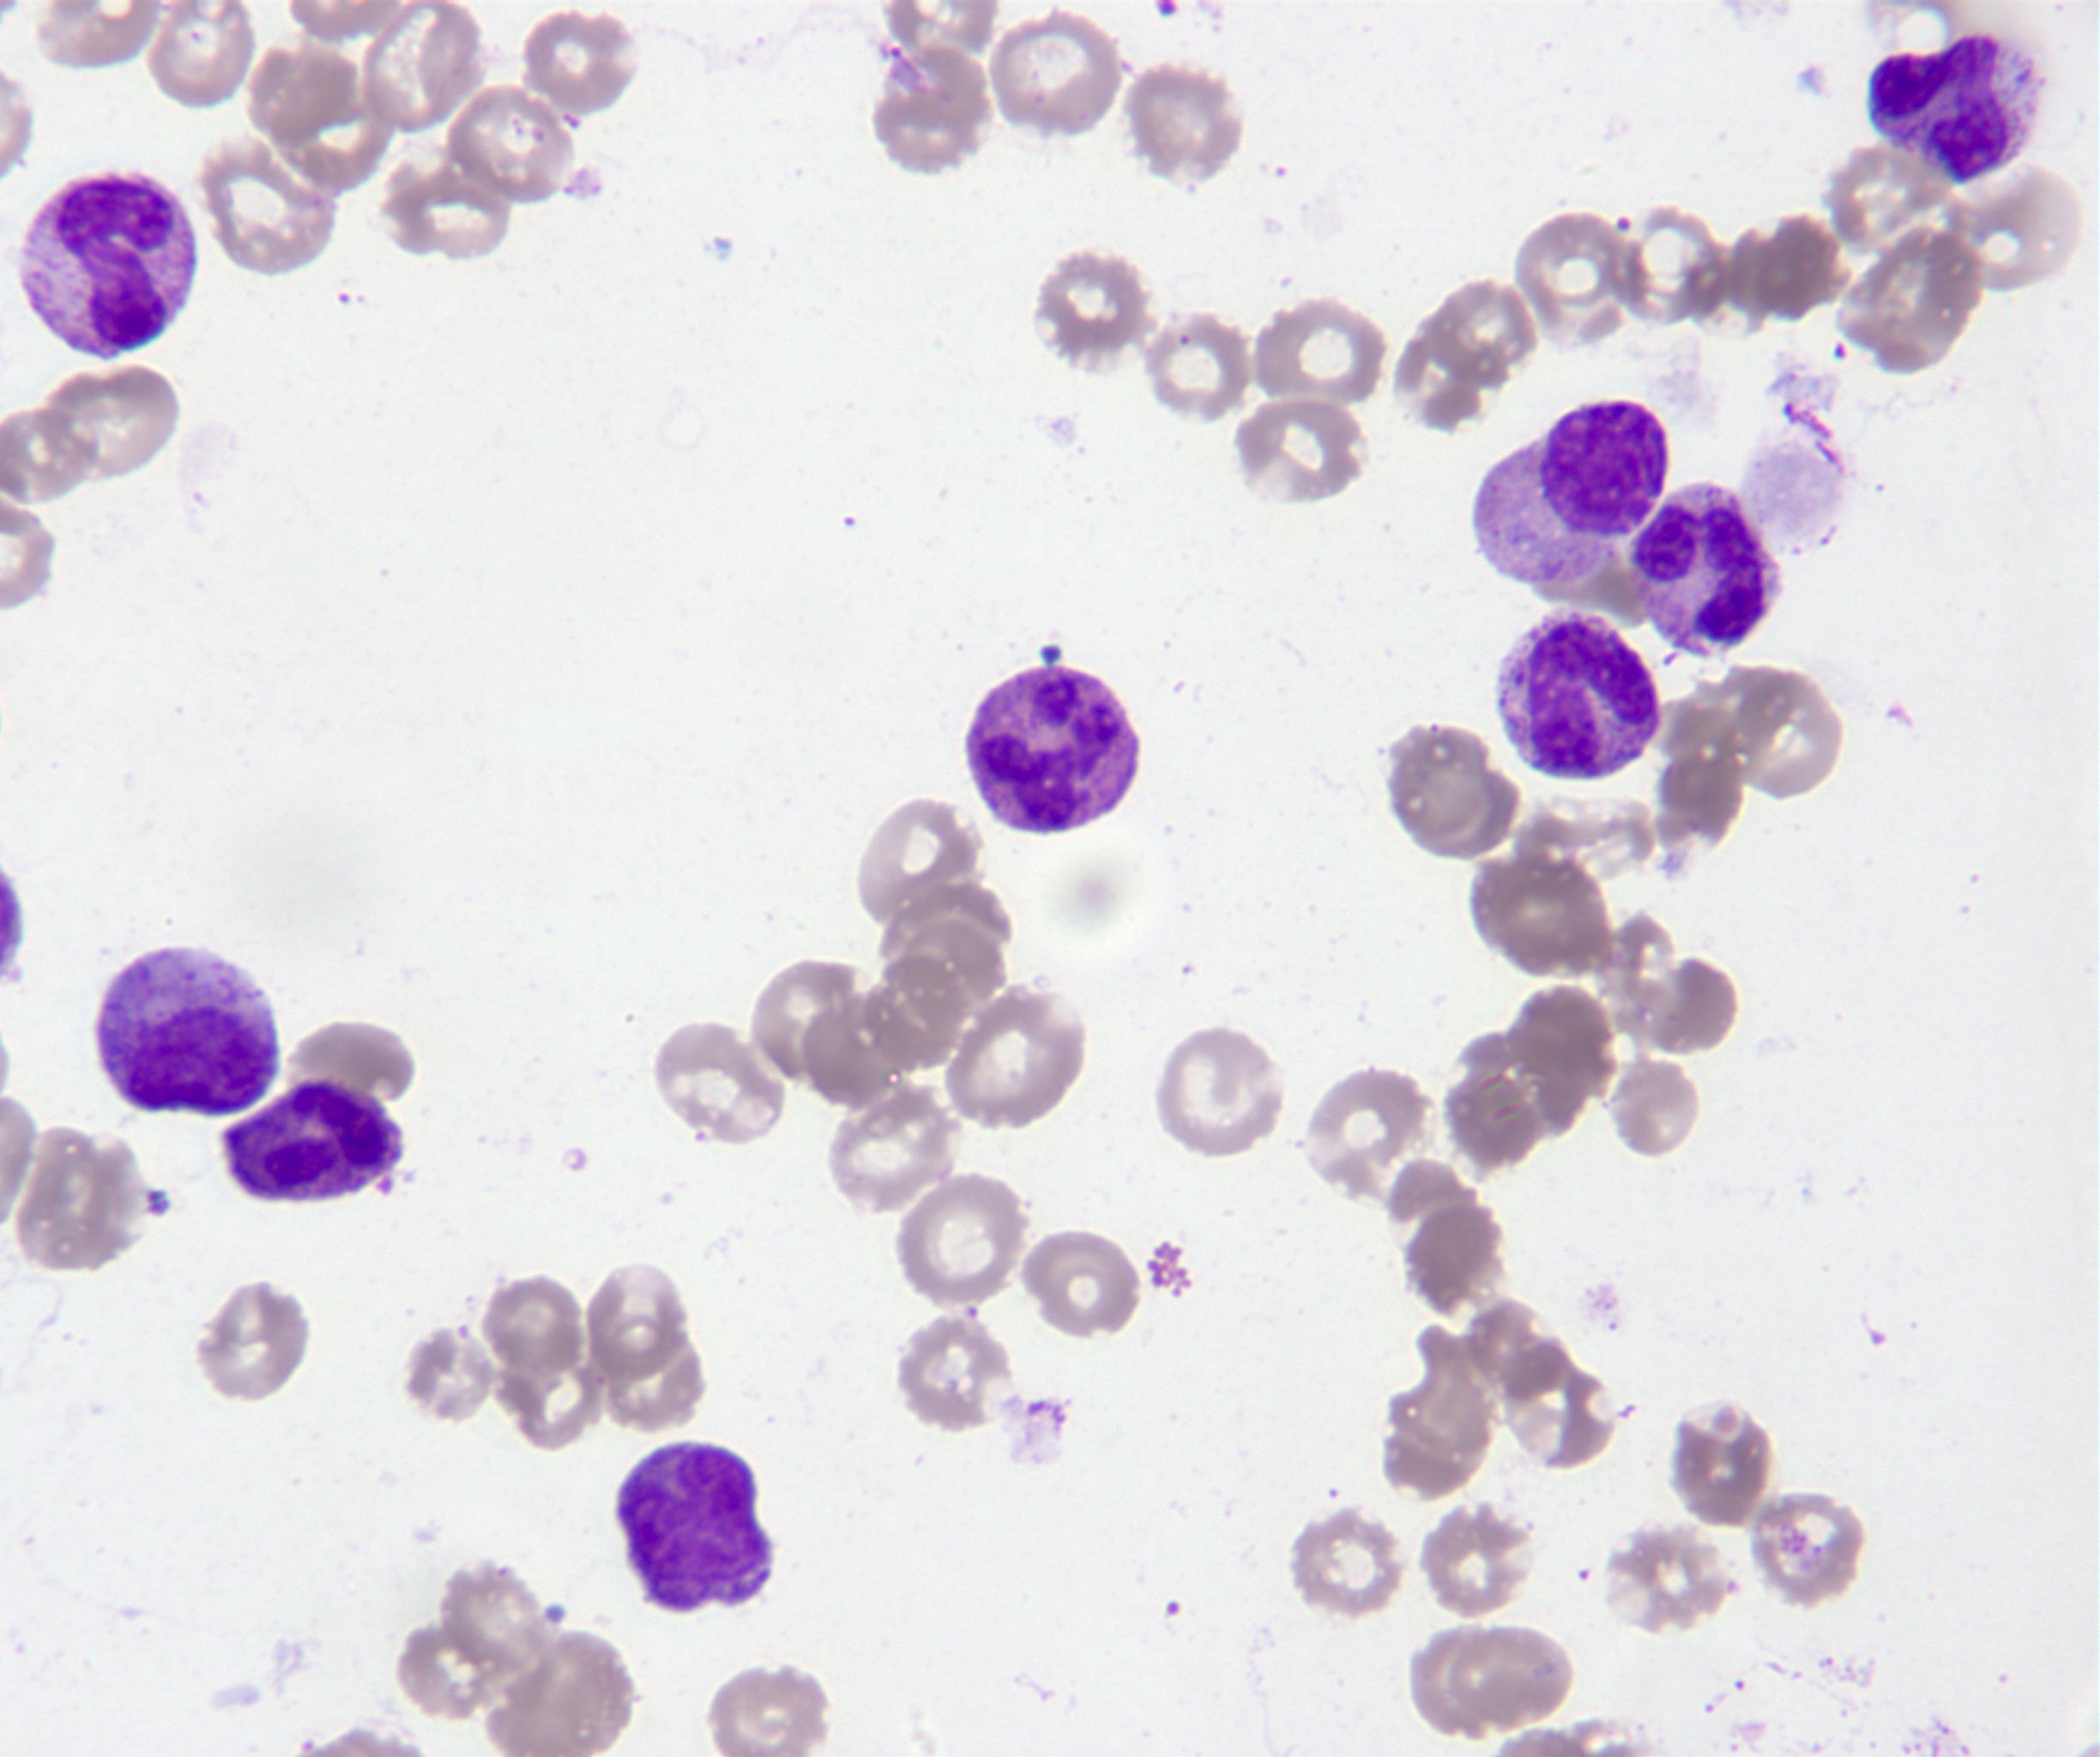3: (91, 942, 288, 1124)
4: (1491, 605, 1666, 785), (614, 1436, 781, 1616)
5: (14, 166, 202, 366), (1626, 476, 1783, 663), (1863, 30, 2042, 188)
6: (963, 661, 1148, 837), (213, 1071, 406, 1206)
x: (1470, 396, 1673, 588)
